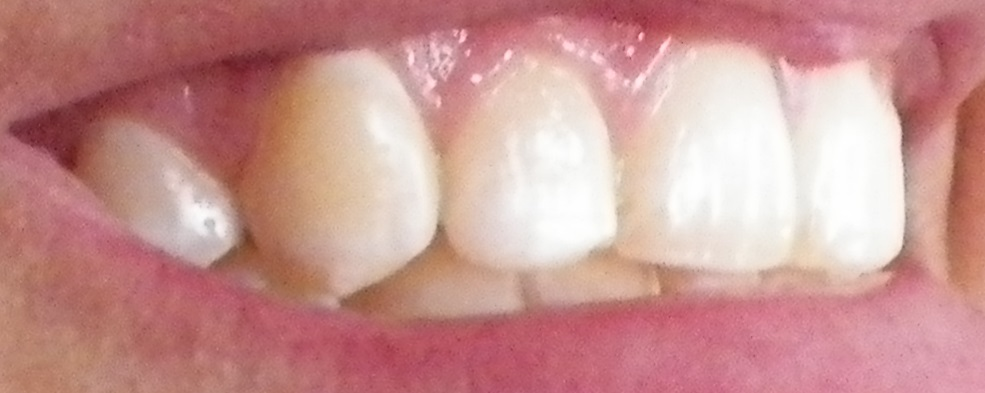boca: (81, 40, 901, 293)
